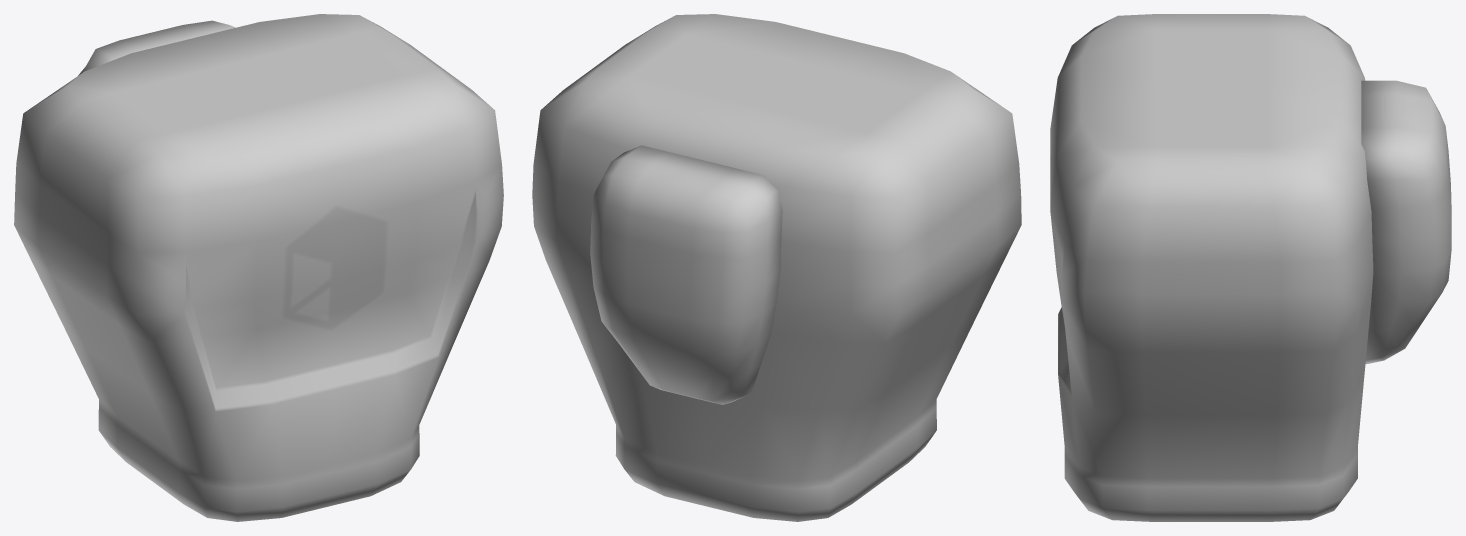
The model's file is body.glb.
The picture shows the model from 3 angles, left to right: view 1: azimuth 30°, elevation 25°; view 2: azimuth 150°, elevation 25°; view 3: azimuth 270°, elevation 25°; orthographic projection. The views are drawn at different scales.
Visible parts, largest first — view 1: geo_body_bot_1, geo_body_bot_1.002; view 2: geo_body_bot_1, geo_body_bot_1.002; view 3: geo_body_bot_1, geo_body_bot_1.002.
Part boxes in pixels (x1,y1,x2,y2): geo_body_bot_1: [14, 14, 503, 521]; geo_body_bot_1.002: [78, 20, 235, 75]; geo_body_bot_1: [532, 14, 1021, 521]; geo_body_bot_1.002: [590, 145, 782, 404]; geo_body_bot_1: [1050, 14, 1373, 521]; geo_body_bot_1.002: [1361, 80, 1451, 364].
Bounding box in the file's own units: 0.2967 × 0.2878 × 0.2707.
1 material, 1 textured.
